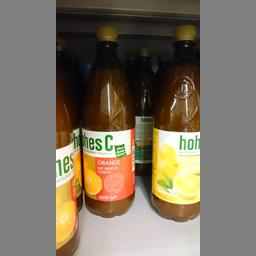juice: (81, 24, 135, 216), (150, 22, 196, 220)
